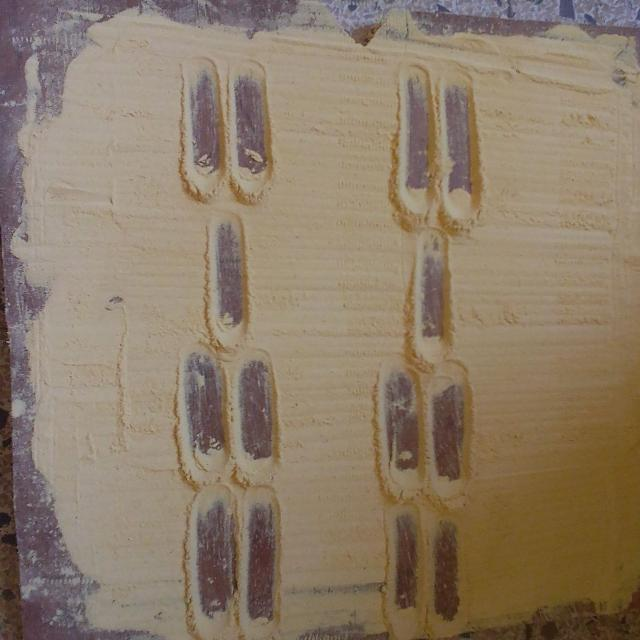double: (180, 60, 282, 184), (394, 66, 486, 197), (376, 372, 484, 480), (174, 356, 286, 458), (202, 495, 290, 621), (383, 510, 468, 616)
single: (206, 204, 260, 336), (414, 234, 459, 348)
